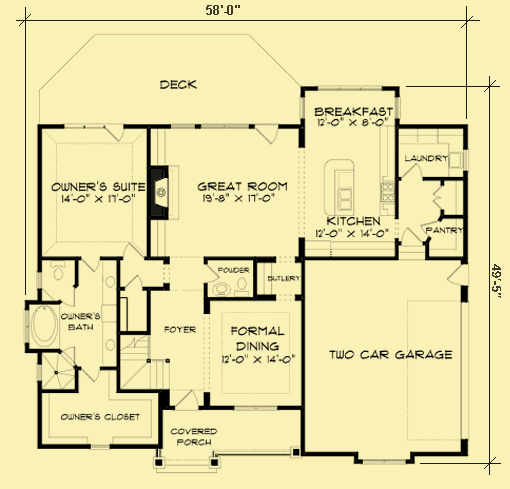bathroom has a small and large sink: (203, 254, 256, 300)
bathroom has a tub, shower, large sink and double small sinks: (22, 255, 116, 396)
kitchen has a breakfast counter, cooking range: (300, 84, 400, 267)
large garage with two car space: (303, 261, 471, 465)
laundry room has washer: (399, 122, 469, 183)
stairs to the other floors: (113, 329, 178, 390)
this is a large closet: (37, 391, 159, 448)
this is the master bedrooms: (36, 125, 150, 264)
